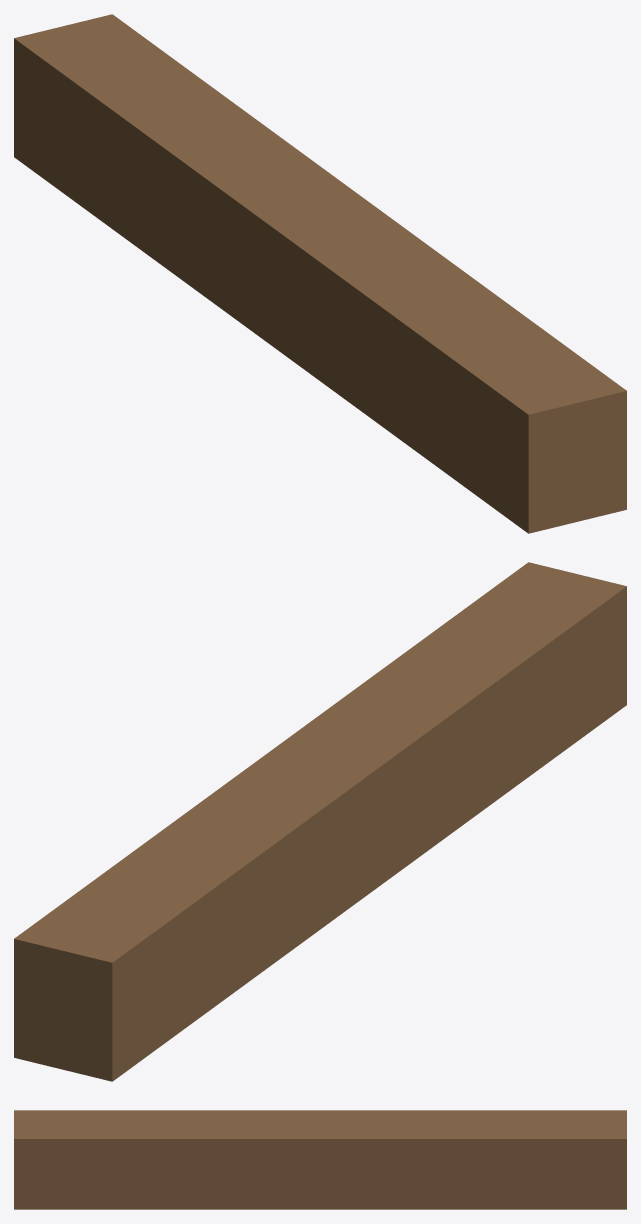
File: porch-05.glb
3 views of the same model, one above another, from view 1: azimuth 30°, elevation 25°; view 2: azimuth 150°, elevation 25°; view 3: azimuth 270°, elevation 25° (orthographic). The views are drawn at different scales.
Size of the model in its own units: 0.6929 by 0.8 by 6.27.
